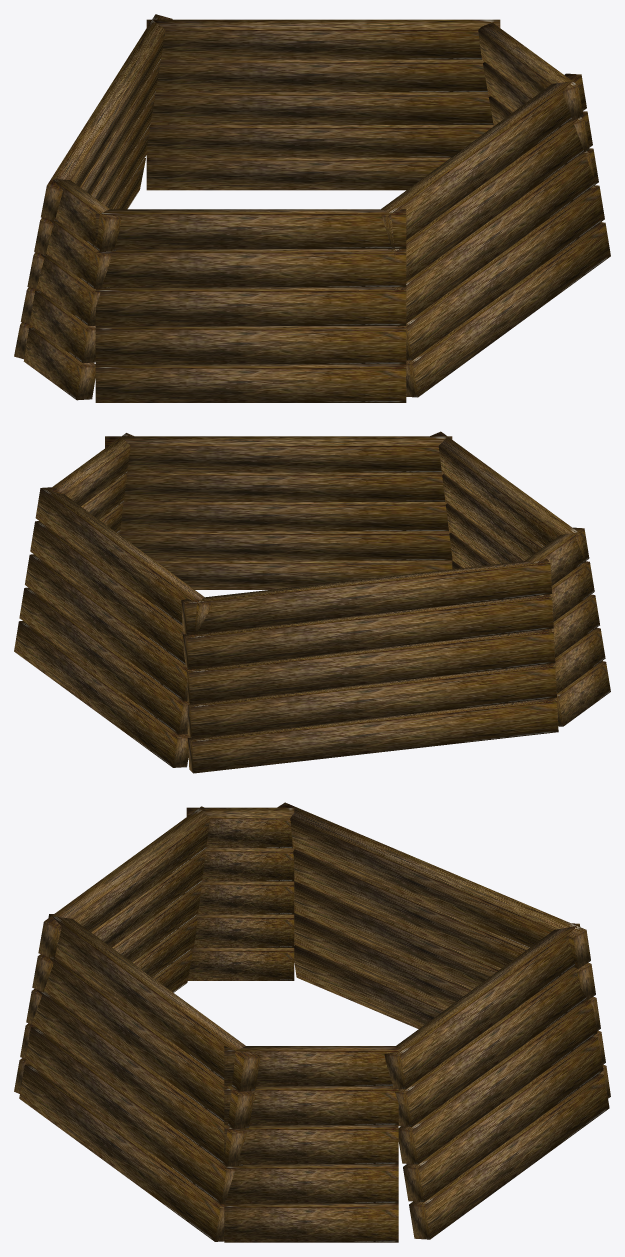
File: WoodenBarrierPartTest03.obj
The picture shows the model from 3 angles, top to bottom: view 1: azimuth 30°, elevation 25°; view 2: azimuth 150°, elevation 25°; view 3: azimuth 270°, elevation 25°; orthographic projection. The views are drawn at different scales.
Parts seen in each view (by area): view 1: Box006; view 2: Box006; view 3: Box006.
Boxes of the visible parts, x1,y1,x2,y2 form: Box006: (14, 14, 610, 402); Box006: (14, 431, 610, 773); Box006: (14, 802, 610, 1242).
Bounding box in the file's own units: 208 × 63.84 × 192.
